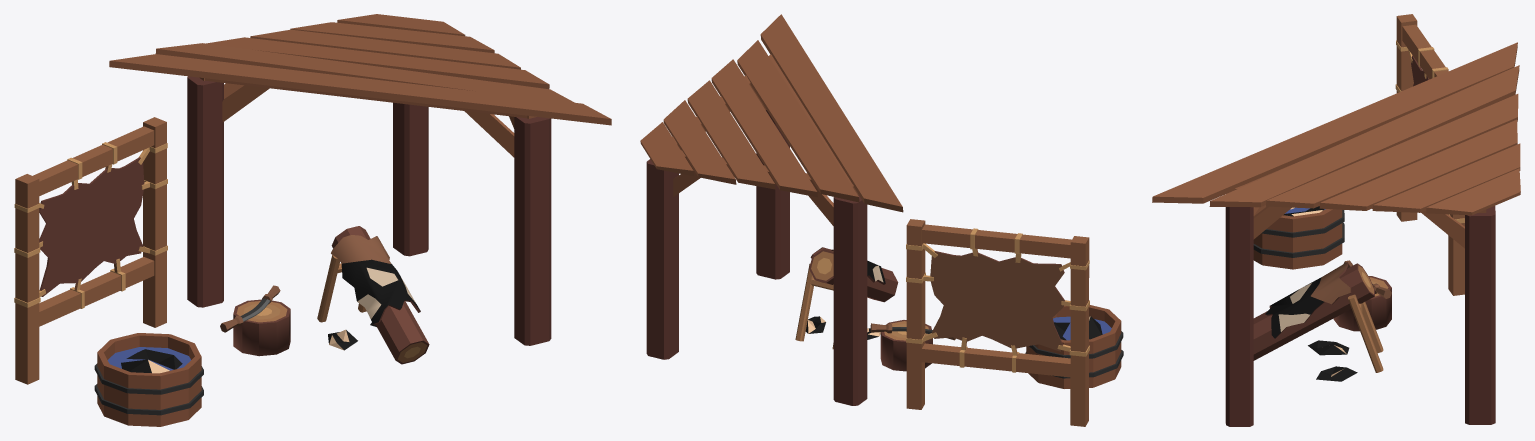
Rendered from tanery_1.fbx.
The picture shows the model from 3 angles, left to right: view 1: azimuth 30°, elevation 25°; view 2: azimuth 150°, elevation 25°; view 3: azimuth 270°, elevation 25°; orthographic projection. The views are drawn at different scales.
Parts seen in each view (by area): view 1: shelter roof, pillars_shelter.001, leather_on_frame, barrel_with_leather, cow_leather, stump.001, Deck, stand; view 2: shelter roof, leather_on_frame, pillars_shelter.001, barrel_with_leather, stump.001, Deck, cow_leather, stand; view 3: shelter roof, pillars_shelter.001, barrel_with_leather, leather_on_frame, cow_leather, Deck, stump.001, stand.
Part boxes in pixels (box(x1,y1,x2,y2)): shelter roof: box(109, 14, 611, 125); pillars_shelter.001: box(187, 76, 551, 345); leather_on_frame: box(14, 117, 167, 384); barrel_with_leather: box(94, 333, 203, 426); cow_leather: box(328, 235, 420, 350); stump.001: box(220, 285, 290, 356); Deck: box(331, 226, 429, 364); stand: box(317, 255, 366, 322); shelter roof: box(640, 14, 903, 212); leather_on_frame: box(906, 219, 1089, 426); pillars_shelter.001: box(646, 54, 867, 405); barrel_with_leather: box(1025, 305, 1123, 388); stump.001: box(870, 320, 955, 371); Deck: box(809, 249, 898, 302); cow_leather: box(805, 247, 885, 339); stand: box(795, 263, 833, 349); shelter roof: box(1152, 42, 1520, 215); pillars_shelter.001: box(1225, 159, 1495, 426); barrel_with_leather: box(1253, 206, 1344, 269); leather_on_frame: box(1395, 14, 1464, 295); cow_leather: box(1265, 262, 1357, 381); Deck: box(1253, 263, 1374, 360); stump.001: box(1333, 260, 1391, 331); stand: box(1348, 294, 1383, 372).
Bounding box in the file's own units: 305 × 153 × 211.
